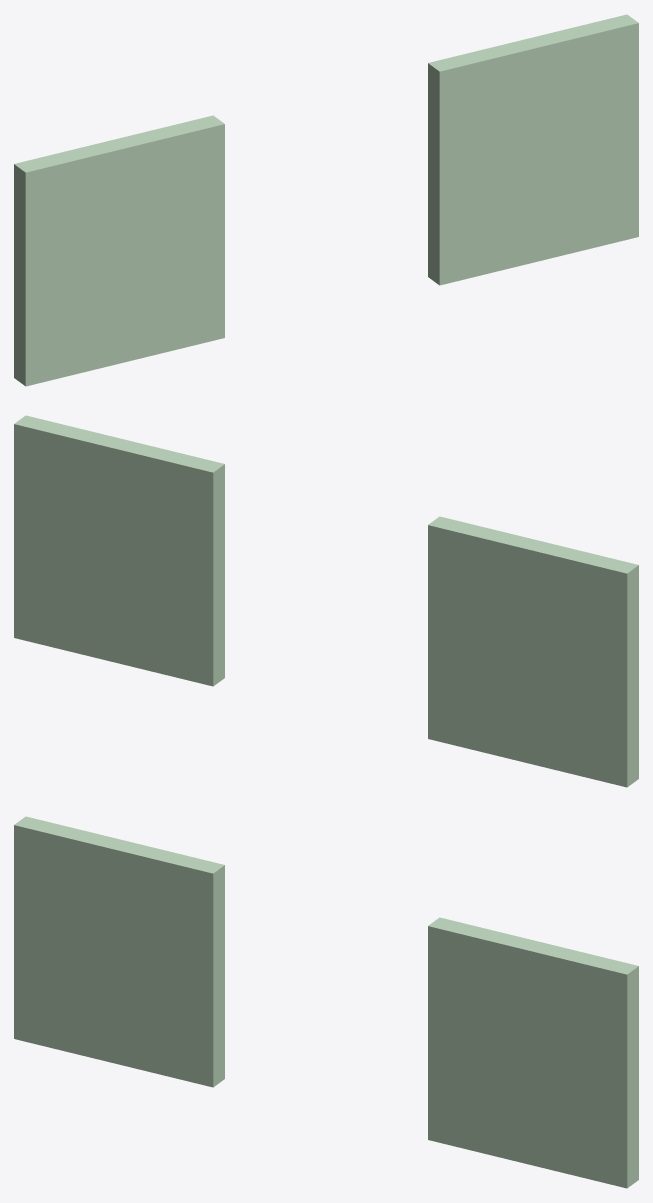
3 renders of one model, top to bottom at view 1: azimuth 30°, elevation 25°; view 2: azimuth 150°, elevation 25°; view 3: azimuth 330°, elevation 25°, orthographic.
Visible parts, largest first — view 1: <组件#49>_1; view 2: <组件#49>_1; view 3: <组件#49>_1.
Boxes of the visible parts, bbox=[...] form: <组件#49>_1: bbox=[14, 14, 638, 386]; <组件#49>_1: bbox=[14, 415, 638, 787]; <组件#49>_1: bbox=[14, 816, 638, 1188].
Bounding box in the file's own units: 118 × 39.37 × 3.94.
